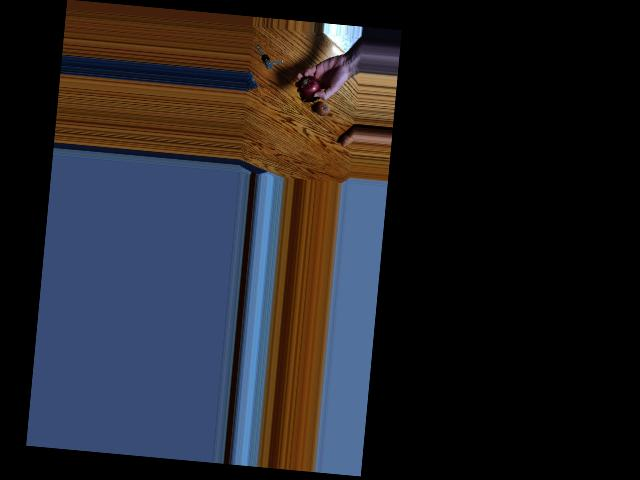onion: (315, 100, 332, 118)
